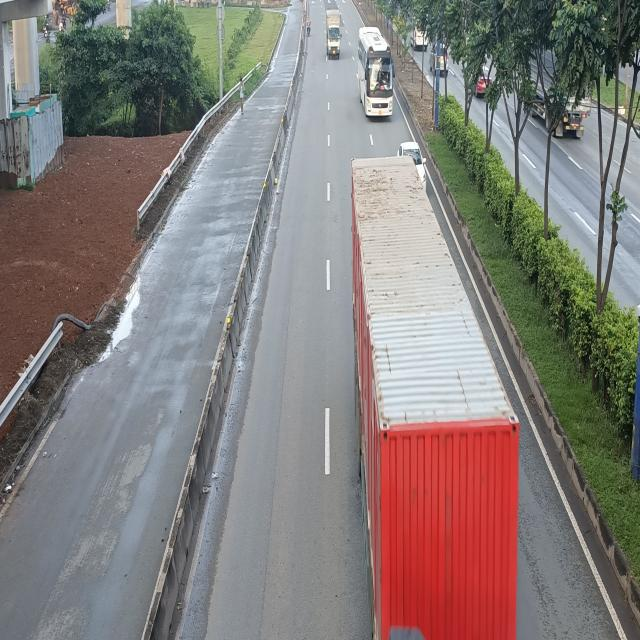coach: (356, 26, 394, 118)
container: (352, 157, 531, 639)
truck: (326, 9, 344, 60)
